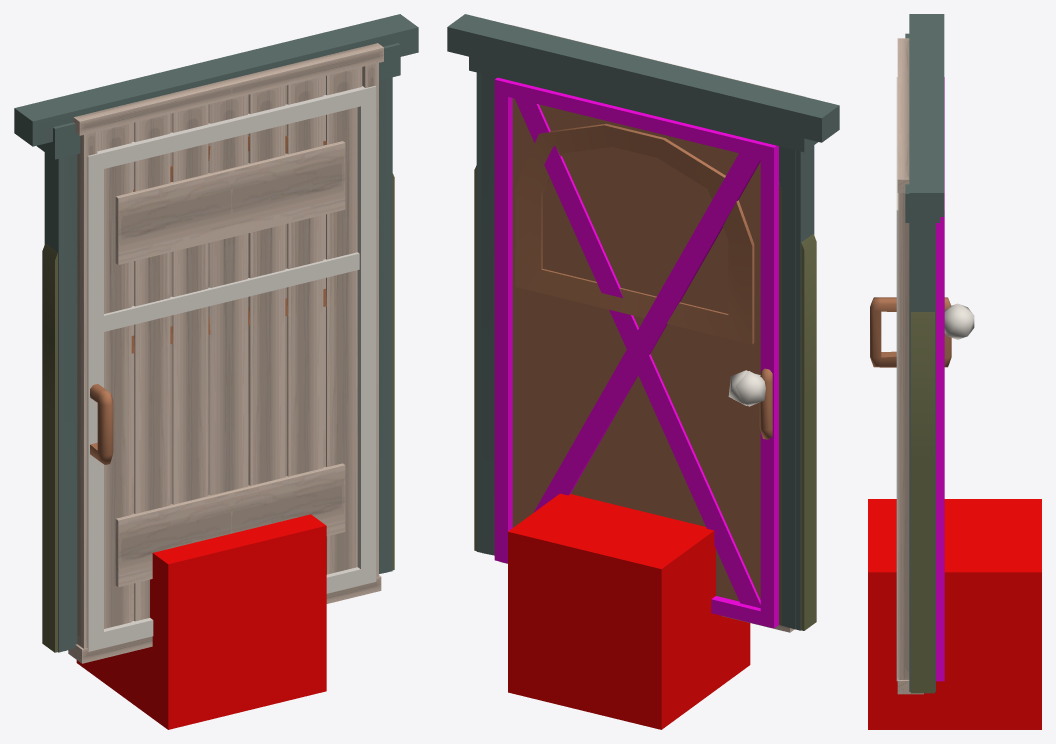
The model's file is Door_Prefab.fbx.
3 views of the same model, side by side, from view 1: azimuth 30°, elevation 25°; view 2: azimuth 150°, elevation 25°; view 3: azimuth 270°, elevation 25° (orthographic). The views are drawn at different scales.
Parts seen in each view (by area): view 1: Door, Entry_Exit_Zone, GlassDoor, BarnDoorFrame, Door_Frame, ArchDoorFrame; view 2: BarnDoor, Entry_Exit_Zone, BarnDoorFrame, ArchDoor, Door_Frame, ArchDoorFrame, GlassDoor; view 3: Entry_Exit_Zone, ArchDoorFrame, Door, BarnDoorFrame, BarnDoor, Door_Frame, GlassDoor, ArchDoor.
Part boxes in pixels (x1,y1,x2,y2): Door: [68, 43, 383, 663]; Entry_Exit_Zone: [76, 514, 326, 729]; GlassDoor: [87, 86, 376, 651]; BarnDoorFrame: [14, 14, 418, 651]; Door_Frame: [37, 43, 400, 652]; ArchDoorFrame: [42, 173, 394, 652]; BarnDoor: [494, 77, 778, 628]; Entry_Exit_Zone: [508, 493, 750, 729]; BarnDoorFrame: [447, 14, 839, 629]; ArchDoor: [515, 123, 756, 405]; Door_Frame: [469, 57, 817, 630]; ArchDoorFrame: [474, 165, 816, 630]; GlassDoor: [759, 368, 772, 439]; Entry_Exit_Zone: [868, 499, 1041, 729]; ArchDoorFrame: [911, 312, 934, 693]; Door: [897, 38, 923, 694]; BarnDoorFrame: [909, 14, 944, 216]; BarnDoor: [936, 77, 974, 681]; Door_Frame: [905, 33, 940, 691]; GlassDoor: [870, 77, 951, 681]; ArchDoor: [944, 305, 974, 339].
Size of the model in its own units: 2.19 by 3.37 by 0.9.
